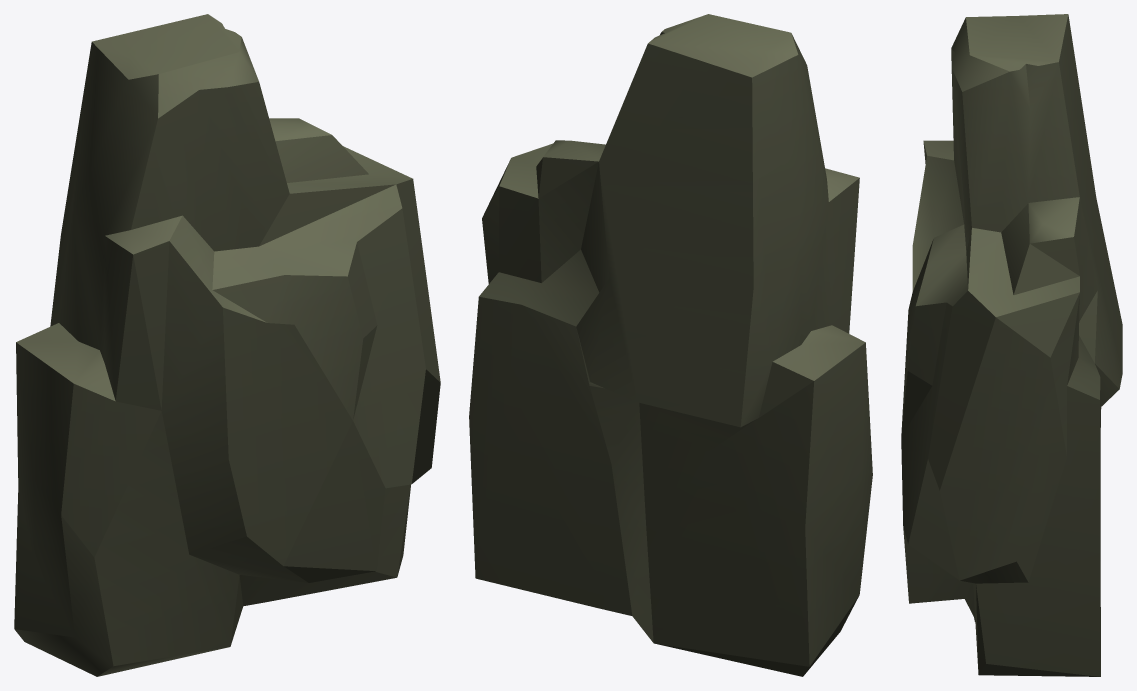
The model's file is RockFace4.fbx.
3 views of the same model, side by side, from view 1: azimuth 30°, elevation 25°; view 2: azimuth 150°, elevation 25°; view 3: azimuth 270°, elevation 25° (orthographic). The views are drawn at different scales.
Parts seen in each view (by area): view 1: Cube.009; view 2: Cube.009; view 3: Cube.009.
Boxes of the visible parts, x1,y1,x2,y2 form: Cube.009: (14, 14, 440, 676); Cube.009: (469, 14, 872, 676); Cube.009: (901, 14, 1122, 676).
Bounding box in the file's own units: 536 × 827 × 291.
